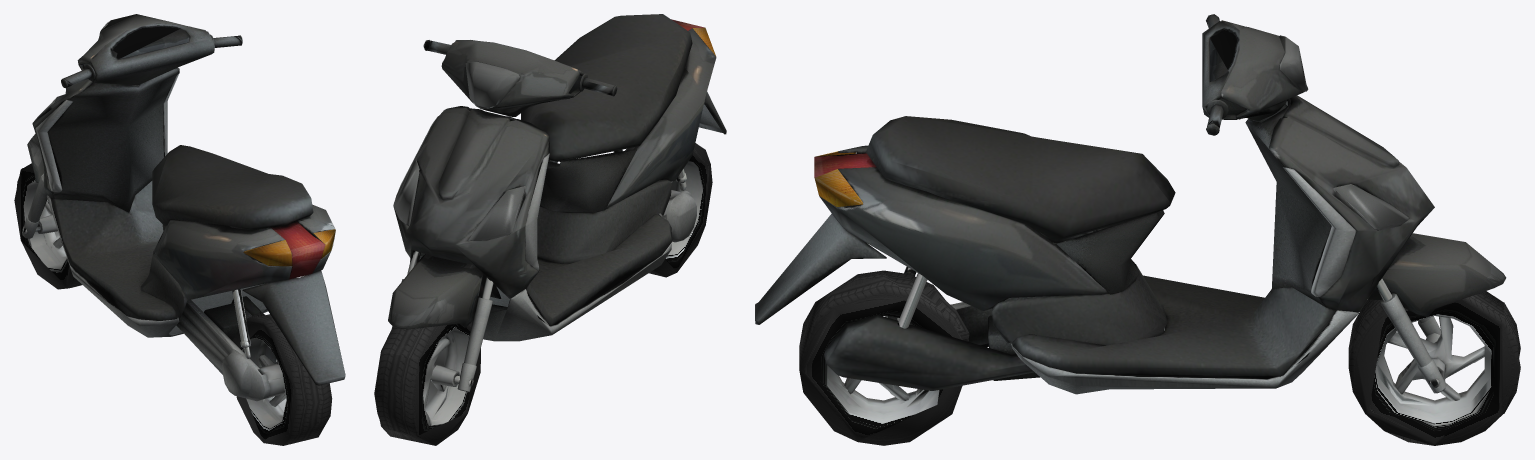
File: CarBike.gltf
3 renders of one model, left to right at view 1: azimuth 30°, elevation 25°; view 2: azimuth 150°, elevation 25°; view 3: azimuth 270°, elevation 25°, orthographic. The views are drawn at different scales.
Parts seen in each view (by area): view 1: bike; view 2: bike; view 3: bike.
Part boxes in pixels (left/top/right/bottom): bike: left=14, top=14, right=345, bottom=445; bike: left=374, top=14, right=726, bottom=445; bike: left=755, top=14, right=1520, bottom=445.
Size of the model in its own units: 6.74 by 11.26 by 19.69.
1 material, 1 textured.
